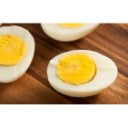begg: (47, 53, 117, 93), (1, 25, 34, 78)
